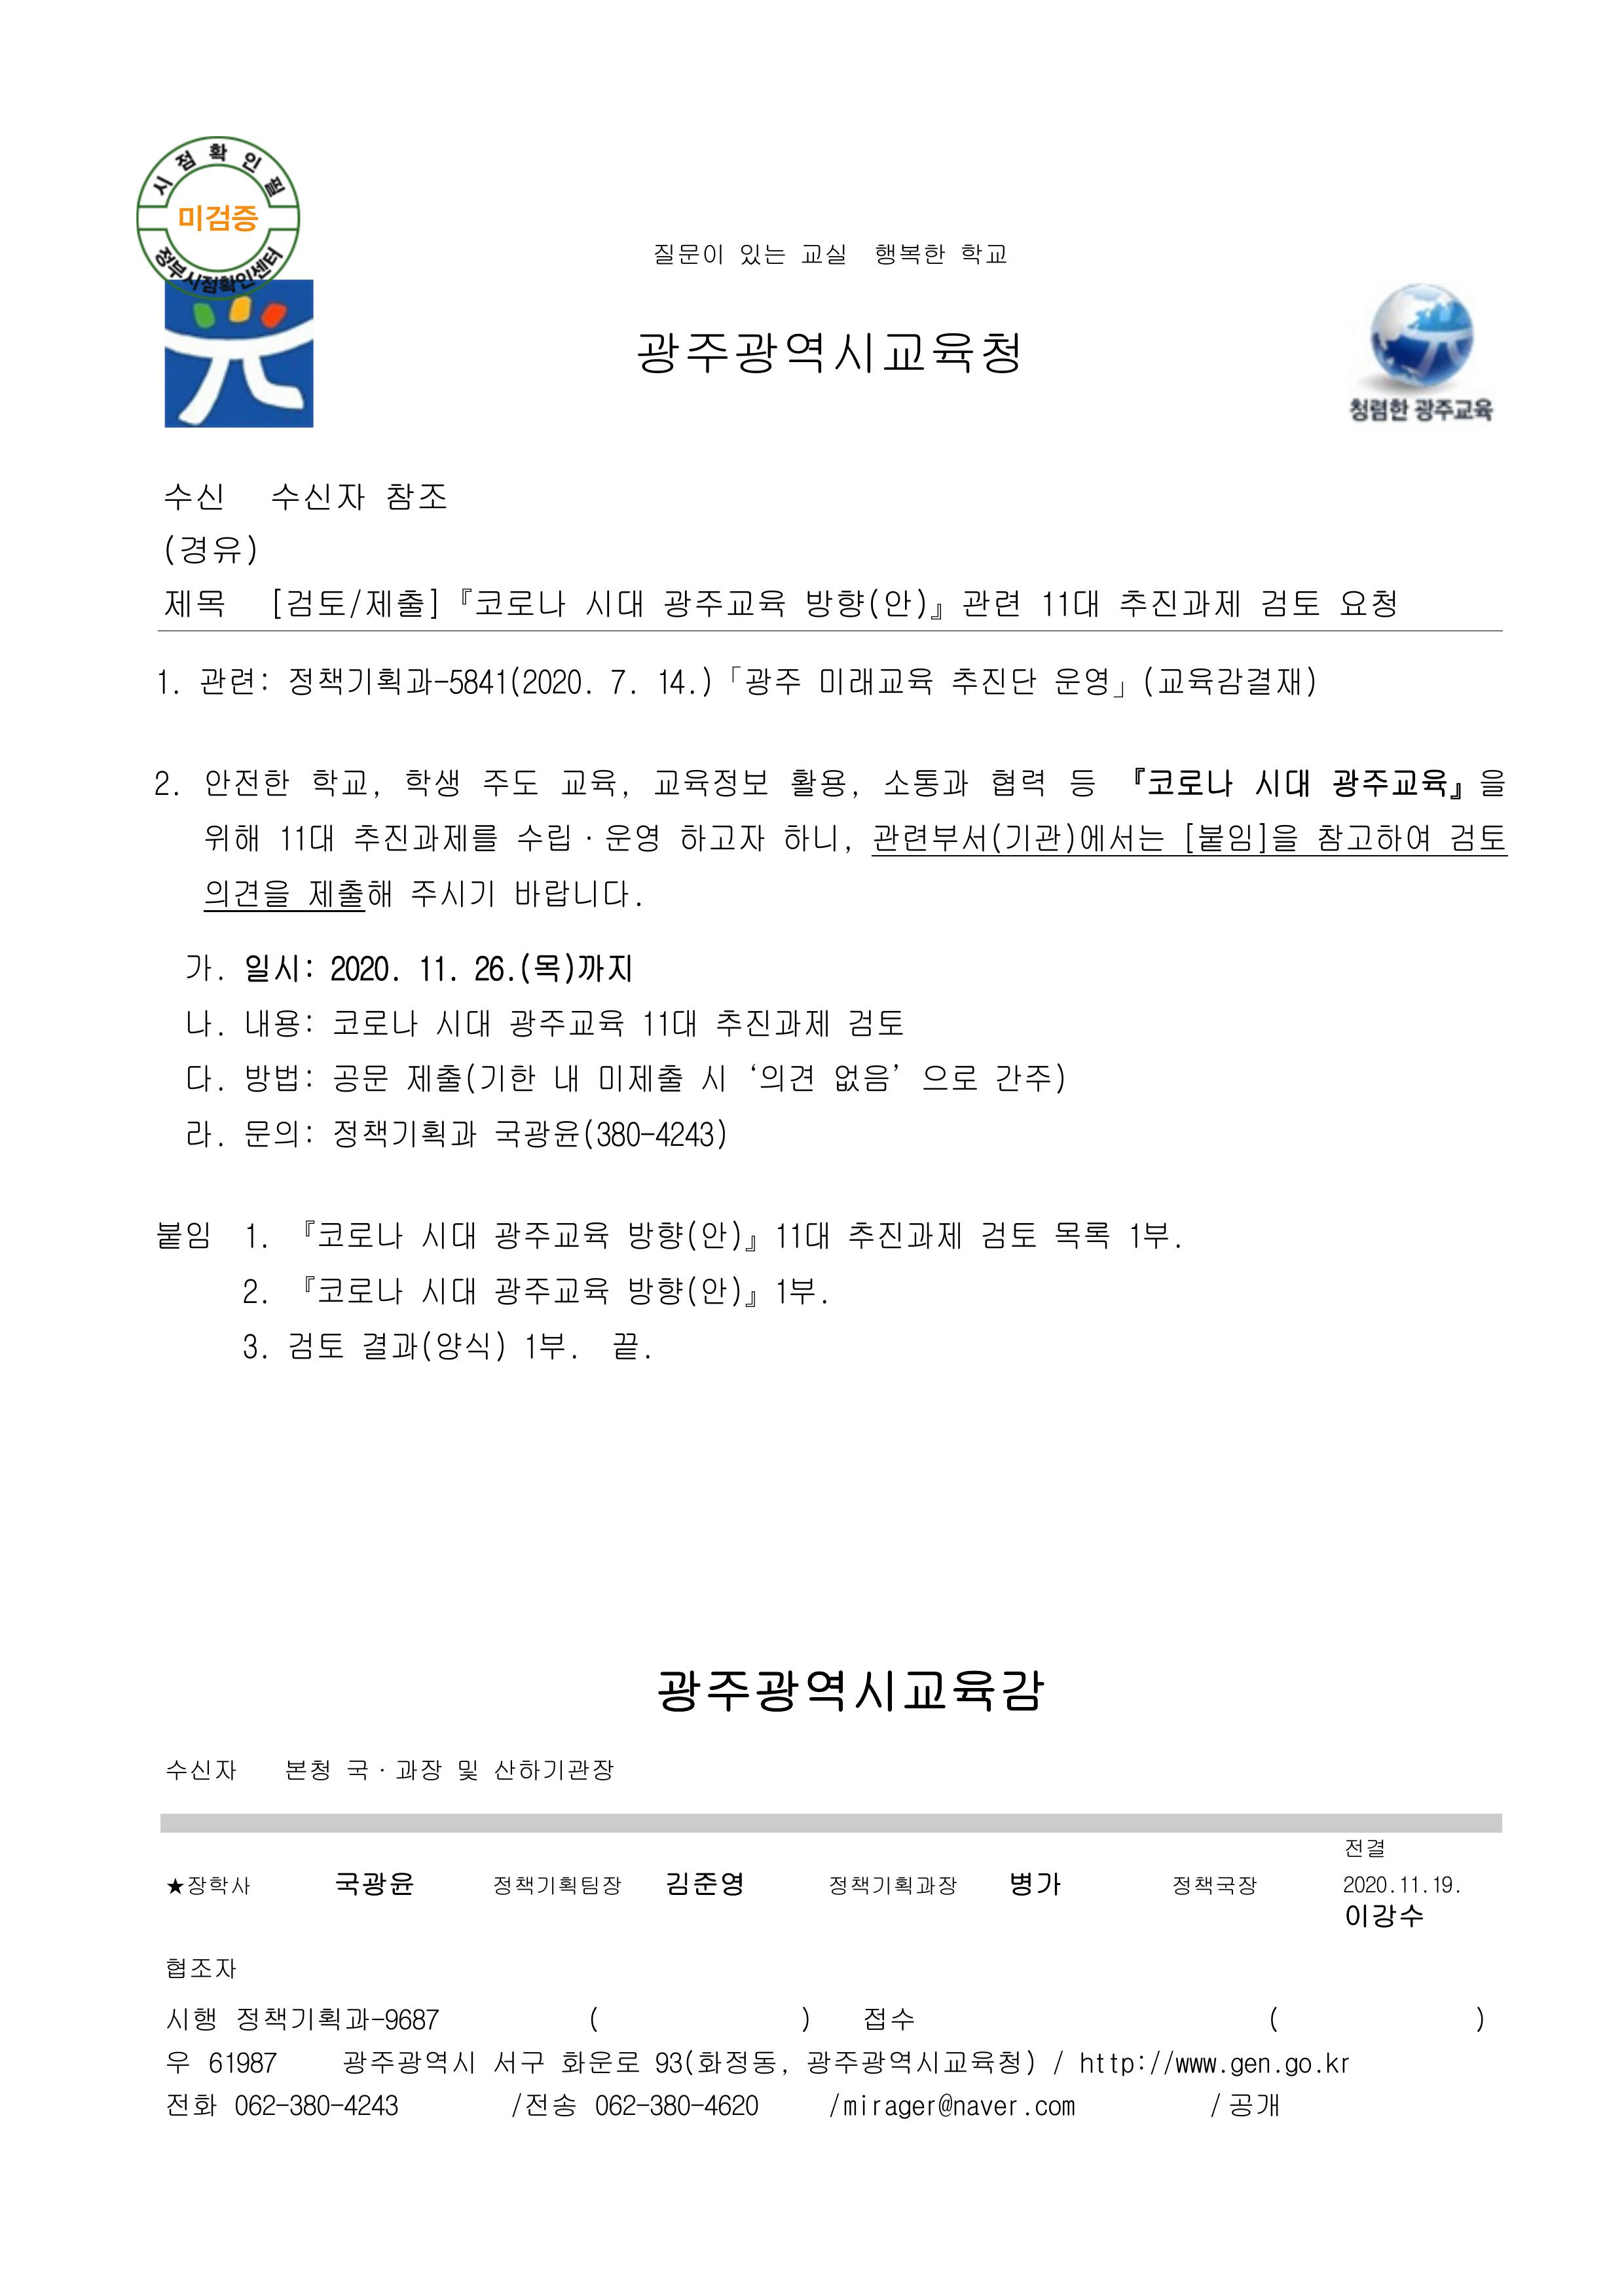t: (634, 327, 1021, 380), (866, 819, 1165, 858), (283, 662, 589, 699), (656, 1664, 852, 1720), (852, 1668, 1048, 1717), (490, 1116, 731, 1151), (803, 2044, 1040, 2079), (232, 2002, 441, 2037), (269, 583, 441, 624), (1137, 662, 1320, 699), (800, 583, 946, 624), (359, 1327, 508, 1365), (1327, 763, 1466, 803), (327, 1116, 480, 1151), (401, 1058, 538, 1097), (624, 1216, 761, 1255), (352, 821, 499, 856), (624, 1272, 761, 1307), (714, 1003, 831, 1044), (341, 2044, 476, 2079), (659, 583, 786, 620), (490, 1216, 610, 1255), (1116, 583, 1241, 620), (1311, 821, 1434, 858), (652, 2044, 780, 2079), (814, 662, 935, 699), (513, 875, 638, 910), (506, 1003, 624, 1040), (1179, 821, 1301, 856), (513, 951, 634, 986), (652, 763, 766, 800), (490, 1272, 610, 1307), (487, 1754, 617, 1785), (455, 583, 566, 620), (842, 1220, 965, 1251), (1130, 763, 1234, 800), (297, 1216, 404, 1251), (297, 1272, 404, 1307), (162, 531, 258, 569), (269, 476, 369, 513), (946, 662, 1040, 699), (596, 1058, 685, 1097), (200, 763, 294, 800), (879, 763, 968, 800), (329, 1003, 418, 1040), (490, 1875, 624, 1900), (301, 875, 394, 910), (408, 875, 499, 910), (828, 1875, 958, 1900), (828, 2091, 940, 2119), (204, 875, 294, 910), (176, 200, 258, 237), (721, 662, 803, 699), (678, 821, 766, 854), (193, 662, 272, 699), (1410, 394, 1496, 427), (286, 2095, 401, 2119), (649, 2095, 763, 2119), (239, 1003, 315, 1040), (990, 1061, 1069, 1097), (1341, 1900, 1424, 1933), (555, 2044, 642, 2075), (239, 1061, 315, 1097), (239, 1116, 315, 1151), (334, 1868, 417, 1900), (663, 1868, 745, 1900), (327, 951, 401, 986), (958, 583, 1021, 624), (380, 476, 448, 513), (308, 763, 376, 800), (555, 763, 624, 800), (872, 237, 951, 269), (244, 951, 315, 986), (935, 2093, 1023, 2121), (786, 763, 852, 800), (162, 583, 227, 620), (1035, 583, 1100, 620), (1258, 583, 1323, 620), (652, 662, 717, 699), (1051, 662, 1116, 699), (480, 763, 545, 800), (831, 1058, 893, 1097), (513, 821, 580, 856), (1076, 2047, 1148, 2079), (584, 583, 645, 620), (401, 763, 462, 800), (986, 763, 1048, 800), (1251, 763, 1313, 800), (638, 1003, 700, 1040), (329, 1058, 387, 1097), (779, 821, 845, 854), (506, 2088, 576, 2119), (1345, 394, 1410, 427), (162, 480, 227, 513), (1445, 821, 1506, 856), (1338, 583, 1396, 620), (845, 1003, 903, 1040), (169, 1875, 255, 1900), (1172, 1875, 1258, 1900), (772, 1216, 831, 1251), (1051, 1216, 1111, 1251), (979, 1220, 1044, 1251), (200, 821, 262, 854), (276, 821, 337, 854), (756, 1058, 814, 1093), (418, 1272, 476, 1307), (167, 1761, 239, 1789), (204, 2047, 276, 2075), (603, 821, 659, 856), (286, 1330, 348, 1362), (1225, 2088, 1280, 2123), (434, 1007, 490, 1040), (652, 244, 728, 269), (921, 1061, 979, 1093), (418, 1220, 476, 1251), (1007, 1868, 1065, 1900), (469, 951, 520, 986), (1125, 1220, 1176, 1255), (155, 1220, 211, 1251), (165, 1958, 237, 1982), (772, 1272, 821, 1307), (520, 1330, 573, 1362), (165, 2005, 218, 2037), (490, 2047, 548, 2075), (735, 239, 789, 269), (283, 1754, 334, 1785), (183, 1116, 228, 1151), (591, 2089, 642, 2119), (417, 951, 459, 986), (183, 951, 228, 982), (183, 1061, 228, 1093), (394, 1757, 445, 1785), (165, 2095, 221, 2119), (863, 2007, 914, 2033), (1162, 2054, 1223, 2075), (1473, 763, 1506, 800), (800, 244, 849, 269), (958, 244, 1007, 269), (183, 1007, 218, 1040), (1065, 763, 1097, 800), (232, 2095, 279, 2119), (610, 1330, 645, 1362), (1283, 2054, 1327, 2079), (155, 666, 186, 699), (151, 766, 183, 800), (1033, 2096, 1079, 2119), (348, 1757, 390, 1782), (1341, 1875, 1390, 1896), (1230, 2054, 1272, 2079), (548, 1061, 580, 1093), (700, 1061, 728, 1093), (452, 1757, 483, 1785), (1345, 1840, 1387, 1861), (1396, 1875, 1431, 1896), (610, 671, 634, 699), (244, 1276, 265, 1307), (246, 1223, 269, 1251), (244, 1334, 265, 1362), (1323, 2054, 1352, 2075), (1431, 1875, 1455, 1896), (169, 2051, 190, 2075)
